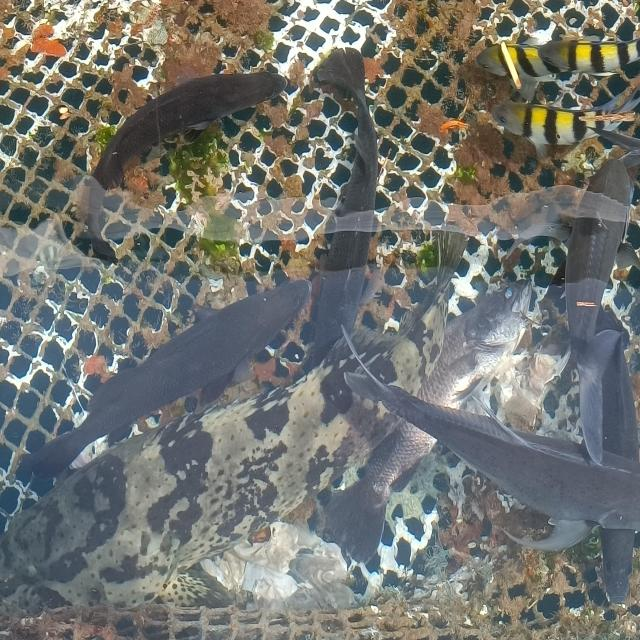ikan: (354, 325, 635, 597), (10, 282, 306, 474), (430, 160, 640, 401), (73, 66, 284, 268), (306, 46, 381, 356), (397, 267, 528, 409), (474, 33, 640, 103), (482, 98, 640, 158)
